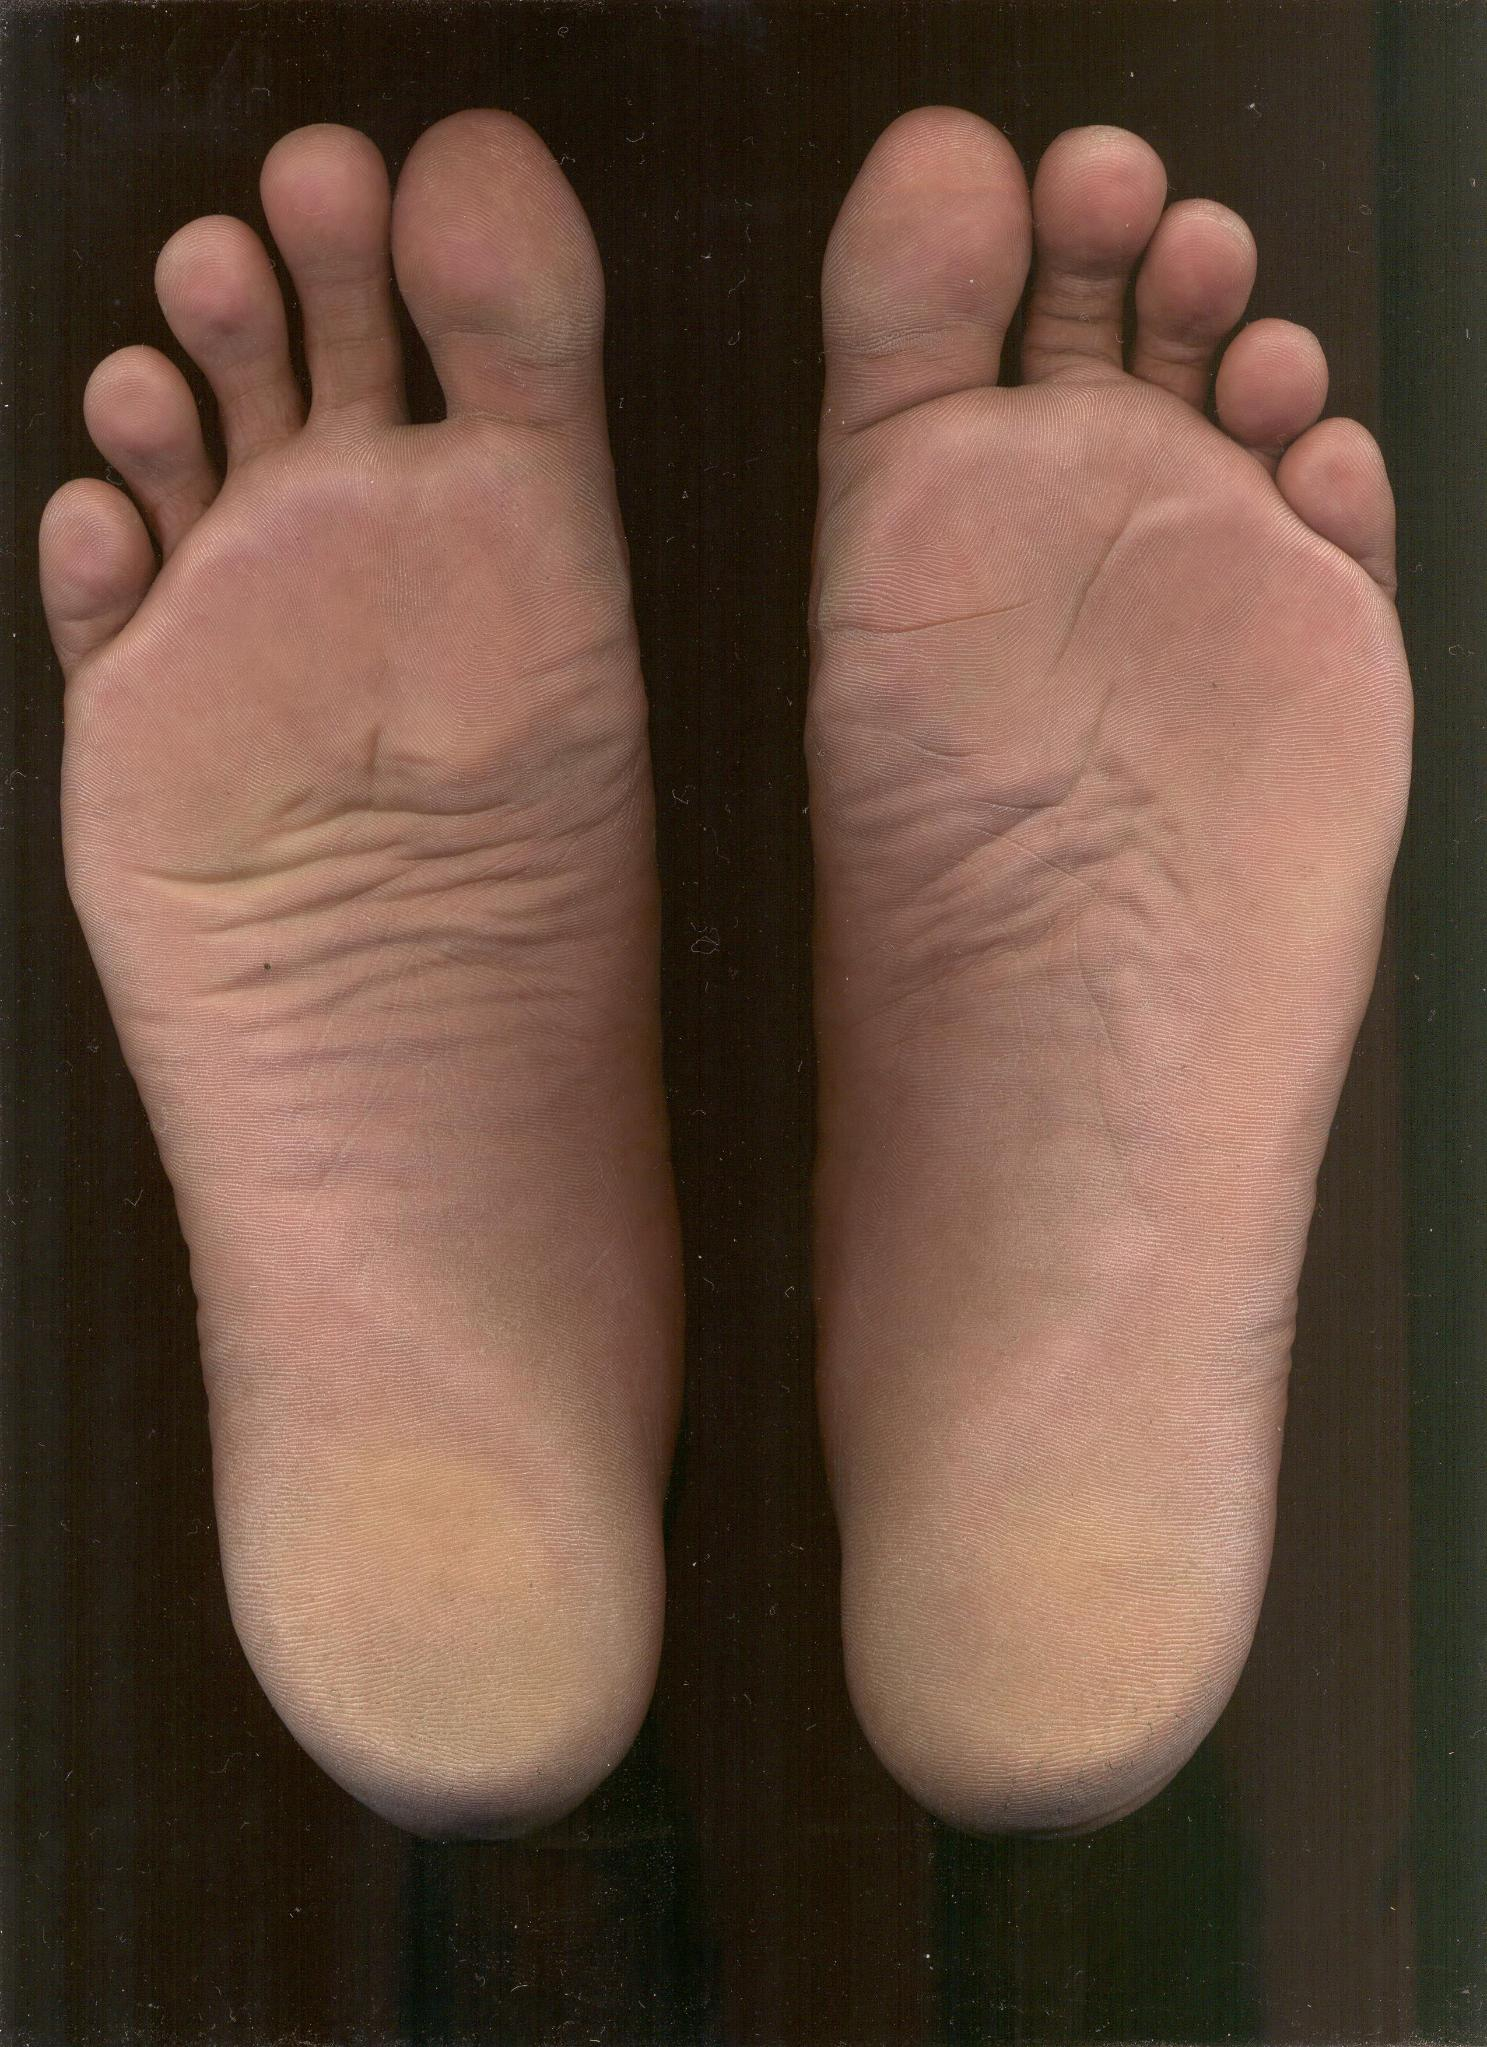Present: (35, 87, 729, 1826), (777, 94, 1436, 1872)
